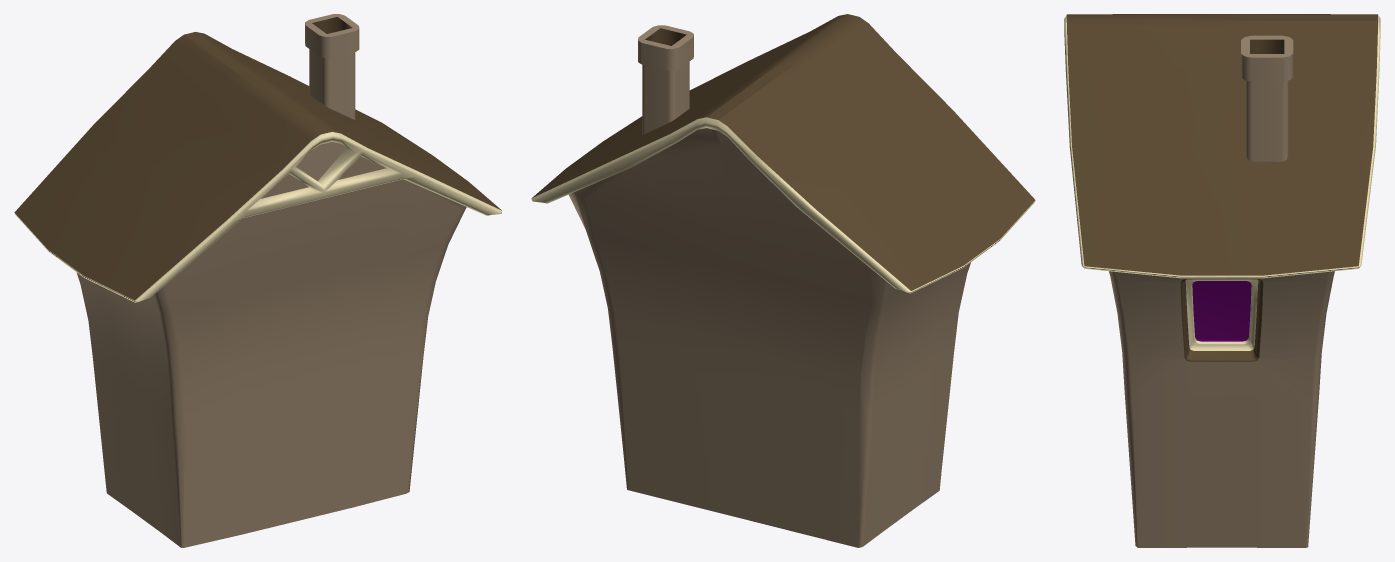
The model's file is HouseTop_MDL.fbx.
3 renders of one model, left to right at view 1: azimuth 30°, elevation 25°; view 2: azimuth 150°, elevation 25°; view 3: azimuth 270°, elevation 25°, orthographic. The views are drawn at different scales.
Parts seen in each view (by area): view 1: HouseTop_GEO; view 2: HouseTop_GEO; view 3: HouseTop_GEO.
Part boxes in pixels (x1,y1,x2,y2): HouseTop_GEO: (14,14,502,547); HouseTop_GEO: (531,14,1035,547); HouseTop_GEO: (1064,14,1380,547).
Size of the model in its own units: 687 by 733 by 429.
